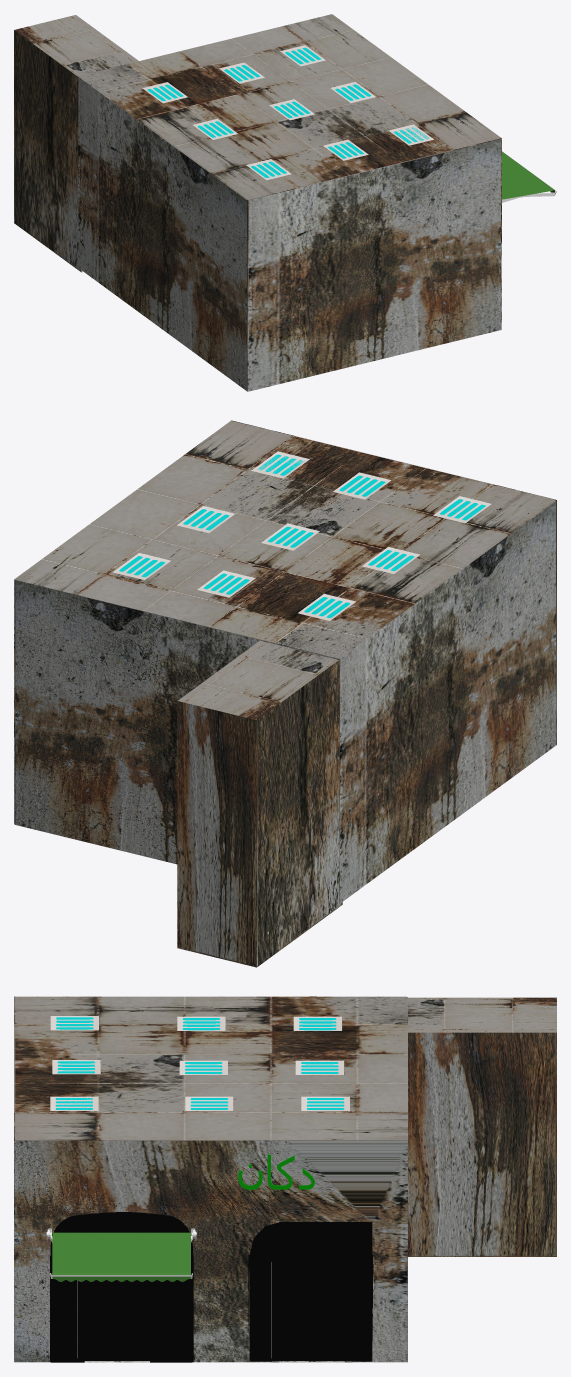
File: DUKAN.fbx
3 renders of one model, top to bottom at view 1: azimuth 30°, elevation 25°; view 2: azimuth 150°, elevation 25°; view 3: azimuth 270°, elevation 25°, orthographic. The views are drawn at different scales.
Parts seen in each view (by area): view 1: polySurface69, pCube55, casset_awning13_casset_awning_fabric01_0; view 2: polySurface69, pCube55; view 3: polySurface69, pCube55, Glass_Door_003, casset_awning13_casset_awning_fabric01_0, Glass_Door_003__1_, pCube48, polySurface53, polySurface58, polySurface55, polySurface53__1_, polySurface56, typeMesh1 (+10 smaller).
Boxes of the visible parts, x1,y1,x2,y2 form: polySurface69: [78, 14, 501, 391]; pCube55: [14, 15, 138, 272]; casset_awning13_casset_awning_fabric01_0: [502, 152, 554, 199]; polySurface69: [14, 420, 556, 903]; pCube55: [177, 641, 342, 967]; polySurface69: [14, 996, 407, 1362]; pCube55: [408, 997, 556, 1256]; Glass_Door_003: [271, 1259, 352, 1362]; casset_awning13_casset_awning_fabric01_0: [52, 1232, 190, 1281]; Glass_Door_003__1_: [77, 1280, 157, 1362]; pCube48: [248, 1222, 373, 1256]; polySurface53: [156, 1259, 192, 1362]; polySurface58: [50, 1212, 192, 1255]; polySurface55: [248, 1259, 271, 1361]; polySurface53__1_: [51, 1260, 76, 1362]; polySurface56: [352, 1259, 371, 1361]; typeMesh1: [238, 1154, 314, 1189].
Size of the model in its own units: 1352 by 772 by 1687.
Materials: 18 (6 with a texture image).
